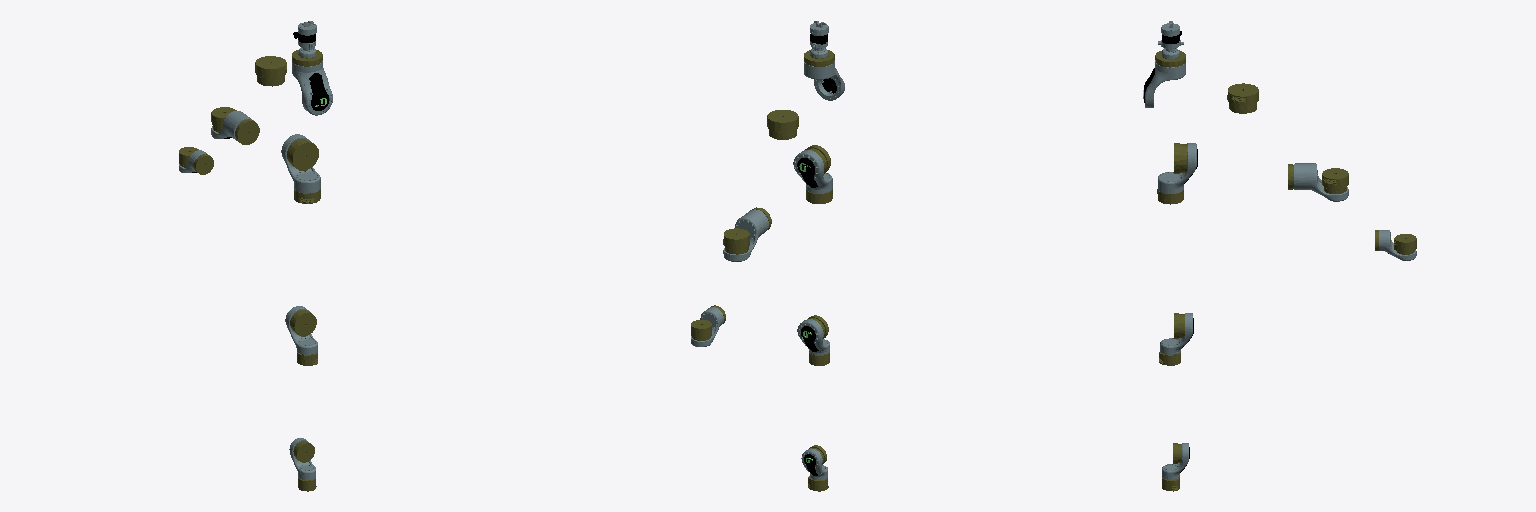
--- What the picture shows (computed from the rendered views, not written in the file) ---
3 views of the same robot in one strip: view 1: azimuth 30°, elevation 25°; view 2: azimuth 150°, elevation 25°; view 3: azimuth 270°, elevation 25° (orthographic).
Model hermesArm with 36 links and 35 joints (7 revolute, 28 fixed), rooted at base1, posed all joints at 0.
Visible links, largest first — view 1: link1_2, link2_2, link1_5, link2_1, link4_2, link4_1; view 2: link3_2, link1_5, link1_2, link2_2, link3_5; view 3: link3_2, link2_2, link1_5, link1_2, link3_5, link4_2.
Boxes of the visible links, x1=… form: link1_2: x1=292, y1=61, x2=332, y2=115; link2_2: x1=281, y1=134, x2=320, y2=193; link1_5: x1=255, y1=56, x2=286, y2=86; link2_1: x1=287, y1=139, x2=318, y2=170; link4_2: x1=285, y1=306, x2=317, y2=354; link4_1: x1=290, y1=310, x2=316, y2=336; link3_2: x1=723, y1=209, x2=768, y2=261; link1_5: x1=767, y1=110, x2=798, y2=139; link1_2: x1=804, y1=61, x2=844, y2=100; link2_2: x1=793, y1=150, x2=832, y2=193; link3_5: x1=723, y1=228, x2=749, y2=254; link3_2: x1=1294, y1=163, x2=1348, y2=201; link2_2: x1=1158, y1=143, x2=1196, y2=193; link1_5: x1=1227, y1=83, x2=1258, y2=113; link1_2: x1=1145, y1=60, x2=1185, y2=107; link3_5: x1=1322, y1=168, x2=1348, y2=193; link4_2: x1=1160, y1=313, x2=1192, y2=354.
Bounding box of the posed robot: 0.1329 × 1.15 × 2.17 m (x, y, z).
34 mesh visuals loaded from 36 distinct referenced files (34 binary STL); not drawn: 2 (reference not matched to a file when rendering).

The robot description file, URDF, robot "hermesArm":
<?xml version="1.0"?>
<robot name="hermesArm">

 <!-- **************************** LINKS ***************************** -->
  <link name="base1"> 
    <inertial>
      <origin xyz="0 0 0" /> 
      <mass value="1.0" />
      <inertia  ixx="1.0" ixy="0.0"  ixz="0.0"  iyy="1.0"  iyz="0.0"  izz="1.0" />
    </inertial>
    <visual>
      <origin xyz="0 0 0"/>
      <geometry>
        <mesh filename="package://hermes_arm_kdl/stl/BaseSchunk1.stl" />
      </geometry>
      <material name="link">
        <color rgba="0.4706 0.5451 0.5647 1"/>
      </material>
    </visual>
    <collision>
      <origin rpy="0 0 0" xyz="0 0 0"/>
      <geometry>
        <mesh filename="package://hermes_arm_kdl/stl/BaseSchunk1.stl" />
      </geometry>
    </collision>	
  </link>

  <link name="base2"> 
    <inertial>
      <origin xyz="0 0 0" /> 
      <mass value="1.0" />
      <inertia  ixx="1.0" ixy="0.0"  ixz="0.0"  iyy="1.0"  iyz="0.0"  izz="1.0" />
    </inertial>
    <visual>
      <origin xyz="0 0 0"/>
      <geometry>
        <mesh filename="package://hermes_arm_kdl/stl/BaseSchunk2.stl" />
      </geometry>
      <material name="motor">
        <color rgba="0.3922 0.3922 0.2118 1"/>
      </material>
    </visual>
    <collision>
      <origin rpy="0 0 0" xyz="0 0 0"/>
      <geometry>
        <mesh filename="package://hermes_arm_kdl/stl/BaseSchunk2.stl" />
      </geometry>
    </collision>	
  </link>

  <link name="link1_1"> 
    <inertial>
      <origin xyz="0 0 0" /> 
      <mass value="1.0" />
      <inertia  ixx="1.0" ixy="0.0"  ixz="0.0"  iyy="1.0"  iyz="0.0"  izz="1.0" />
    </inertial>
    <visual>
      <origin xyz="0 0 0"/>
      <geometry>
        <mesh filename="package://hermes_arm_kdl/stl/SchunkLink1_1.stl" />
      </geometry>
      <material name="motor">
        <color rgba="0.3922 0.3922 0.2118 1"/>
      </material>
    </visual>
    <collision>
      <origin rpy="0 0 0" xyz="0 0 0"/>
      <geometry>
        <mesh filename="package://hermes_arm_kdl/stl/SchunkLink1_1.stl" />
      </geometry>
    </collision>	
  </link>

  <link name="link1_2"> 
    <inertial>
      <origin xyz="0 0 0" /> 
      <mass value="1.0" />
      <inertia  ixx="1.0" ixy="0.0"  ixz="0.0"  iyy="1.0"  iyz="0.0"  izz="1.0" />
    </inertial>
    <visual>
      <origin xyz="0 0 0"/>
      <geometry>
        <mesh filename="package://hermes_arm_kdl/stl/SchunkLink1_2.stl" />
      </geometry>
      <material name="link">
        <color rgba="0.4706 0.5451 0.5647 1"/>
      </material>
    </visual>
    <collision>
      <origin rpy="0 0 0" xyz="0 0 0"/>
      <geometry>
        <mesh filename="package://hermes_arm_kdl/stl/SchunkLink1_2.stl" />
      </geometry>
    </collision>	
  </link>

  <link name="link1_3"> 
    <inertial>
      <origin xyz="0 0 0" /> 
      <mass value="1.0" />
      <inertia  ixx="1.0" ixy="0.0"  ixz="0.0"  iyy="1.0"  iyz="0.0"  izz="1.0" />
    </inertial>
    <visual>
      <origin xyz="0 0 0"/>
      <geometry>
        <mesh filename="package://hermes_arm_kdl/stl/SchunkLink1_3.stl" />
      </geometry>
      <material name="tapa">
        <color rgba="0.0100 0.0100 0.0100 1"/>
      </material>
    </visual>
    <collision>
      <origin rpy="0 0 0" xyz="0 0 0"/>
      <geometry>
        <mesh filename="package://hermes_arm_kdl/stl/SchunkLink1_3.stl" />
      </geometry>
    </collision>	
  </link>

  <link name="link1_4"> 
    <inertial>
      <origin xyz="0 0 0" /> 
      <mass value="1.0" />
      <inertia  ixx="1.0" ixy="0.0"  ixz="0.0"  iyy="1.0"  iyz="0.0"  izz="1.0" />
    </inertial>
    <visual>
      <origin xyz="0 0 0"/>
      <geometry>
        <mesh filename="package://hermes_arm_kdl/stl/SchunkLink1_4.stl" />
      </geometry>
      <material name="nbio">
        <color rgba="0.5100 0.9100 0.5100 1"/>
      </material>
    </visual>
    <collision>
      <origin rpy="0 0 0" xyz="0 0 0"/>
      <geometry>
        <mesh filename="package://hermes_arm_kdl/stl/SchunkLink1_4.stl" />
      </geometry>
    </collision>	
  </link>


  <link name="link1_5"> 
    <inertial>
      <origin xyz="0 0 0" /> 
      <mass value="1.0" />
      <inertia  ixx="1.0" ixy="0.0"  ixz="0.0"  iyy="1.0"  iyz="0.0"  izz="1.0" />
    </inertial>
    <visual>
      <origin xyz="0 0 0"/>
      <geometry>
        <mesh filename="package://hermes_arm_kdl/stl/SchunkLink1_5.stl" />
      </geometry>
      <material name="motor">
        <color rgba="0.3922 0.3922 0.2118 1"/>
      </material>
    </visual>
    <collision>
      <origin rpy="0 0 0" xyz="0 0 0"/>
      <geometry>
        <mesh filename="package://hermes_arm_kdl/stl/SchunkLink1_5.stl" />
      </geometry>
    </collision>	
  </link>


  <link name="link2_1"> 
    <inertial>
      <origin xyz="0 0 0" /> 
      <mass value="1.0" />
      <inertia  ixx="1.0" ixy="0.0"  ixz="0.0"  iyy="1.0"  iyz="0.0"  izz="1.0" />
    </inertial>
    <visual>
      <origin xyz="0 0 0"/>
      <geometry>
        <mesh filename="package://hermes_arm_kdl/stl/SchunkLink2_1.stl" />
      </geometry>
      <material name="motor">
        <color rgba="0.3922 0.3922 0.2118 1"/>
      </material>
    </visual>
    <collision>
      <origin rpy="0 0 0" xyz="0 0 0"/>
      <geometry>
        <mesh filename="package://hermes_arm_kdl/stl/SchunkLink2_1.stl" />
      </geometry>
    </collision>	
  </link>

  <link name="link2_2"> 
    <inertial>
      <origin xyz="0 0 0" /> 
      <mass value="1.0" />
      <inertia  ixx="1.0" ixy="0.0"  ixz="0.0"  iyy="1.0"  iyz="0.0"  izz="1.0" />
    </inertial>
    <visual>
      <origin xyz="0 0 0"/>
      <geometry>
        <mesh filename="package://hermes_arm_kdl/stl/SchunkLink2_2.stl" />
      </geometry>
      <material name="link">
        <color rgba="0.4706 0.5451 0.5647 1"/>
      </material>
    </visual>
    <collision>
      <origin rpy="0 0 0" xyz="0 0 0"/>
      <geometry>
        <mesh filename="package://hermes_arm_kdl/stl/SchunkLink2_2.stl" />
      </geometry>
    </collision>	
  </link>

  <link name="link2_3"> 
    <inertial>
      <origin xyz="0 0 0" /> 
      <mass value="1.0" />
      <inertia  ixx="1.0" ixy="0.0"  ixz="0.0"  iyy="1.0"  iyz="0.0"  izz="1.0" />
    </inertial>
    <visual>
      <origin xyz="0 0 0"/>
      <geometry>
        <mesh filename="package://hermes_arm_kdl/stl/SchunkLink2_3.stl" />
      </geometry>
      <material name="tapa">
        <color rgba="0.0100 0.0100 0.0100 1"/>
      </material>
    </visual>
    <collision>
      <origin rpy="0 0 0" xyz="0 0 0"/>
      <geometry>
        <mesh filename="package://hermes_arm_kdl/stl/SchunkLink2_3.stl" />
      </geometry>
    </collision>	
  </link>

  <link name="link2_4"> 
    <inertial>
      <origin xyz="0 0 0" /> 
      <mass value="1.0" />
      <inertia  ixx="1.0" ixy="0.0"  ixz="0.0"  iyy="1.0"  iyz="0.0"  izz="1.0" />
    </inertial>
    <visual>
      <origin xyz="0 0 0"/>
      <geometry>
        <mesh filename="package://hermes_arm_kdl/stl/SchunkLink2_4.stl" />
      </geometry>
      <material name="nbio">
        <color rgba="0.5100 0.9100 0.5100 1"/>
      </material>
    </visual>
    <collision>
      <origin rpy="0 0 0" xyz="0 0 0"/>
      <geometry>
        <mesh filename="package://hermes_arm_kdl/stl/SchunkLink2_4.stl" />
      </geometry>
    </collision>	
  </link>

  <link name="link2_5"> 
    <inertial>
      <origin xyz="0 0 0" /> 
      <mass value="1.0" />
      <inertia  ixx="1.0" ixy="0.0"  ixz="0.0"  iyy="1.0"  iyz="0.0"  izz="1.0" />
    </inertial>
    <visual>
      <origin xyz="0 0 0"/>
      <geometry>
        <mesh filename="package://hermes_arm_kdl/stl/SchunkLink2_5.stl" />
      </geometry>
      <material name="motor">
        <color rgba="0.3922 0.3922 0.2118 1"/>
      </material>
    </visual>
    <collision>
      <origin rpy="0 0 0" xyz="0 0 0"/>
      <geometry>
        <mesh filename="package://hermes_arm_kdl/stl/SchunkLink2_5.stl" />
      </geometry>
    </collision>	
  </link>

  <link name="link3_1"> 
    <inertial>
      <origin xyz="0 0 0" /> 
      <mass value="1.0" />
      <inertia  ixx="1.0" ixy="0.0"  ixz="0.0"  iyy="1.0"  iyz="0.0"  izz="1.0" />
    </inertial>
    <visual>
      <origin xyz="0 0 0"/>
      <geometry>
        <mesh filename="package://hermes_arm_kdl/stl/SchunkLink3_1.stl" />
      </geometry>
      <material name="motor">
        <color rgba="0.3922 0.3922 0.2118 1"/>
      </material>
    </visual>
    <collision>
      <origin rpy="0 0 0" xyz="0 0 0"/>
      <geometry>
        <mesh filename="package://hermes_arm_kdl/stl/SchunkLink3_1.stl" />
      </geometry>
    </collision>	
  </link>

  <link name="link3_2"> 
    <inertial>
      <origin xyz="0 0 0" /> 
      <mass value="1.0" />
      <inertia  ixx="1.0" ixy="0.0"  ixz="0.0"  iyy="1.0"  iyz="0.0"  izz="1.0" />
    </inertial>
    <visual>
      <origin xyz="0 0 0"/>
      <geometry>
        <mesh filename="package://hermes_arm_kdl/stl/SchunkLink3_2.stl" />
      </geometry>
      <material name="link">
        <color rgba="0.4706 0.5451 0.5647 1"/>
      </material>
    </visual>
    <collision>
      <origin rpy="0 0 0" xyz="0 0 0"/>
      <geometry>
        <mesh filename="package://hermes_arm_kdl/stl/SchunkLink3_2.stl" />
      </geometry>
    </collision>	
  </link>

  <link name="link3_3"> 
    <inertial>
      <origin xyz="0 0 0" /> 
      <mass value="1.0" />
      <inertia  ixx="1.0" ixy="0.0"  ixz="0.0"  iyy="1.0"  iyz="0.0"  izz="1.0" />
    </inertial>
    <visual>
      <origin xyz="0 0 0"/>
      <geometry>
        <mesh filename="package://hermes_arm_kdl/stl/SchunkLink3_3.stl" />
      </geometry>
      <material name="tapa">
        <color rgba="0.0100 0.0100 0.0100 1"/>
      </material>
    </visual>
    <collision>
      <origin rpy="0 0 0" xyz="0 0 0"/>
      <geometry>
        <mesh filename="package://hermes_arm_kdl/stl/SchunkLink3_3.stl" />
      </geometry>
    </collision>	
  </link>

  <link name="link3_4"> 
    <inertial>
      <origin xyz="0 0 0" /> 
      <mass value="1.0" />
      <inertia  ixx="1.0" ixy="0.0"  ixz="0.0"  iyy="1.0"  iyz="0.0"  izz="1.0" />
    </inertial>
    <visual>
      <origin xyz="0 0 0"/>
      <geometry>
        <mesh filename="package://hermes_arm_kdl/stl/SchunkLink3_4.stl" />
      </geometry>
      <material name="nbio">
        <color rgba="0.5100 0.9100 0.5100 1"/>
      </material>
    </visual>
    <collision>
      <origin rpy="0 0 0" xyz="0 0 0"/>
      <geometry>
        <mesh filename="package://hermes_arm_kdl/stl/SchunkLink3_4.stl" />
      </geometry>
    </collision>	
  </link>

  <link name="link3_5"> 
    <inertial>
      <origin xyz="0 0 0" /> 
      <mass value="1.0" />
      <inertia  ixx="1.0" ixy="0.0"  ixz="0.0"  iyy="1.0"  iyz="0.0"  izz="1.0" />
    </inertial>
    <visual>
      <origin xyz="0 0 0"/>
      <geometry>
        <mesh filename="package://hermes_arm_kdl/stl/SchunkLink3_5.stl" />
      </geometry>
      <material name="motor">
        <color rgba="0.3922 0.3922 0.2118 1"/>
      </material>
    </visual>
    <collision>
      <origin rpy="0 0 0" xyz="0 0 0"/>
      <geometry>
        <mesh filename="package://hermes_arm_kdl/stl/SchunkLink3_5.stl" />
      </geometry>
    </collision>	
  </link>

  <link name="link4_1"> 
    <inertial>
      <origin xyz="0 0 0" /> 
      <mass value="1.0" />
      <inertia  ixx="1.0" ixy="0.0"  ixz="0.0"  iyy="1.0"  iyz="0.0"  izz="1.0" />
    </inertial>
    <visual>
      <origin xyz="0 0 0"/>
      <geometry>
        <mesh filename="package://hermes_arm_kdl/stl/SchunkLink4_1.stl" />
      </geometry>
      <material name="motor">
        <color rgba="0.3922 0.3922 0.2118 1"/>
      </material>
    </visual>
    <collision>
      <origin rpy="0 0 0" xyz="0 0 0"/>
      <geometry>
        <mesh filename="package://hermes_arm_kdl/stl/SchunkLink4_1.stl" />
      </geometry>
    </collision>	
  </link>

  <link name="link4_2"> 
    <inertial>
      <origin xyz="0 0 0" /> 
      <mass value="1.0" />
      <inertia  ixx="1.0" ixy="0.0"  ixz="0.0"  iyy="1.0"  iyz="0.0"  izz="1.0" />
    </inertial>
    <visual>
      <origin xyz="0 0 0"/>
      <geometry>
        <mesh filename="package://hermes_arm_kdl/stl/SchunkLink4_2.stl" />
      </geometry>
      <material name="link">
        <color rgba="0.4706 0.5451 0.5647 1"/>
      </material>
    </visual>
    <collision>
      <origin rpy="0 0 0" xyz="0 0 0"/>
      <geometry>
        <mesh filename="package://hermes_arm_kdl/stl/SchunkLink4_2.stl" />
      </geometry>
    </collision>	
  </link>

  <link name="link4_3"> 
    <inertial>
      <origin xyz="0 0 0" /> 
      <mass value="1.0" />
      <inertia  ixx="1.0" ixy="0.0"  ixz="0.0"  iyy="1.0"  iyz="0.0"  izz="1.0" />
    </inertial>
    <visual>
      <origin xyz="0 0 0"/>
      <geometry>
        <mesh filename="package://hermes_arm_kdl/stl/SchunkLink4_3.stl" />
      </geometry>
      <material name="tapa">
        <color rgba="0.0100 0.0100 0.0100 1"/>
      </material>
    </visual>
    <collision>
      <origin rpy="0 0 0" xyz="0 0 0"/>
      <geometry>
        <mesh filename="package://hermes_arm_kdl/stl/SchunkLink4_3.stl" />
      </geometry>
    </collision>	
  </link>

  <link name="link4_4"> 
    <inertial>
      <origin xyz="0 0 0" /> 
      <mass value="1.0" />
      <inertia  ixx="1.0" ixy="0.0"  ixz="0.0"  iyy="1.0"  iyz="0.0"  izz="1.0" />
    </inertial>
    <visual>
      <origin xyz="0 0 0"/>
      <geometry>
        <mesh filename="package://hermes_arm_kdl/stl/SchunkLink4_4.stl" />
      </geometry>
      <material name="nbio">
        <color rgba="0.5100 0.9100 0.5100 1"/>
      </material>
    </visual>
    <collision>
      <origin rpy="0 0 0" xyz="0 0 0"/>
      <geometry>
        <mesh filename="package://hermes_arm_kdl/stl/SchunkLink4_4.stl" />
      </geometry>
    </collision>	
  </link>

  <link name="link4_5"> 
    <inertial>
      <origin xyz="0 0 0" /> 
      <mass value="1.0" />
      <inertia  ixx="1.0" ixy="0.0"  ixz="0.0"  iyy="1.0"  iyz="0.0"  izz="1.0" />
    </inertial>
    <visual>
      <origin xyz="0 0 0"/>
      <geometry>
        <mesh filename="package://hermes_arm_kdl/stl/SchunkLink4_5.stl" />
      </geometry>
      <material name="motor">
        <color rgba="0.3922 0.3922 0.2118 1"/>
      </material>
    </visual>
    <collision>
      <origin rpy="0 0 0" xyz="0 0 0"/>
      <geometry>
        <mesh filename="package://hermes_arm_kdl/stl/SchunkLink4_5.stl" />
      </geometry>
    </collision>	
  </link>

  <link name="link5_1"> 
    <inertial>
      <origin xyz="0 0 0" /> 
      <mass value="1.0" />
      <inertia  ixx="1.0" ixy="0.0"  ixz="0.0"  iyy="1.0"  iyz="0.0"  izz="1.0" />
    </inertial>
    <visual>
      <origin xyz="0 0 0"/>
      <geometry>
        <mesh filename="package://hermes_arm_kdl/stl/SchunkLink5_1.stl" />
      </geometry>
      <material name="motor">
        <color rgba="0.3922 0.3922 0.2118 1"/>
      </material>
    </visual>
    <collision>
      <origin rpy="0 0 0" xyz="0 0 0"/>
      <geometry>
        <mesh filename="package://hermes_arm_kdl/stl/SchunkLink5_1.stl" />
      </geometry>
    </collision>	
  </link>

  <link name="link5_2"> 
    <inertial>
      <origin xyz="0 0 0" /> 
      <mass value="1.0" />
      <inertia  ixx="1.0" ixy="0.0"  ixz="0.0"  iyy="1.0"  iyz="0.0"  izz="1.0" />
    </inertial>
    <visual>
      <origin xyz="0 0 0"/>
      <geometry>
        <mesh filename="package://hermes_arm_kdl/stl/SchunkLink5_2.stl" />
      </geometry>
      <material name="link">
        <color rgba="0.4706 0.5451 0.5647 1"/>
      </material>
    </visual>
    <collision>
      <origin rpy="0 0 0" xyz="0 0 0"/>
      <geometry>
        <mesh filename="package://hermes_arm_kdl/stl/SchunkLink5_2.stl" />
      </geometry>
    </collision>	
  </link>

  <link name="link5_3"> 
    <inertial>
      <origin xyz="0 0 0" /> 
      <mass value="1.0" />
      <inertia  ixx="1.0" ixy="0.0"  ixz="0.0"  iyy="1.0"  iyz="0.0"  izz="1.0" />
    </inertial>
    <visual>
      <origin xyz="0 0 0"/>
      <geometry>
        <mesh filename="package://hermes_arm_kdl/stl/SchunkLink5_3.stl" />
      </geometry>
      <material name="tapa">
        <color rgba="0.0100 0.0100 0.0100 1"/>
      </material>
    </visual>
    <collision>
      <origin rpy="0 0 0" xyz="0 0 0"/>
      <geometry>
        <mesh filename="package://hermes_arm_kdl/stl/SchunkLink5_3.stl" />
      </geometry>
    </collision>	
  </link>

  <link name="link5_4"> 
    <inertial>
      <origin xyz="0 0 0" /> 
      <mass value="1.0" />
      <inertia  ixx="1.0" ixy="0.0"  ixz="0.0"  iyy="1.0"  iyz="0.0"  izz="1.0" />
    </inertial>
    <visual>
      <origin xyz="0 0 0"/>
      <geometry>
        <mesh filename="package://hermes_arm_kdl/stl/SchunkLink5_4.stl" />
      </geometry>
      <material name="nbio">
        <color rgba="0.5100 0.9100 0.5100 1"/>
      </material>
    </visual>
    <collision>
      <origin rpy="0 0 0" xyz="0 0 0"/>
      <geometry>
        <mesh filename="package://hermes_arm_kdl/stl/SchunkLink5_4.stl" />
      </geometry>
    </collision>	
  </link>

 <link name="link5_5"> 
    <inertial>
      <origin xyz="0 0 0" /> 
      <mass value="1.0" />
      <inertia  ixx="1.0" ixy="0.0"  ixz="0.0"  iyy="1.0"  iyz="0.0"  izz="1.0" />
    </inertial>
    <visual>
      <origin xyz="0 0 0"/>
      <geometry>
        <mesh filename="package://hermes_arm_kdl/stl/SchunkLink5_5.stl" />
      </geometry>
      <material name="motor">
        <color rgba="0.3922 0.3922 0.2118 1"/>
      </material>
    </visual>
    <collision>
      <origin rpy="0 0 0" xyz="0 0 0"/>
      <geometry>
        <mesh filename="package://hermes_arm_kdl/stl/SchunkLink5_5.stl" />
      </geometry>
    </collision>	
  </link>



  <link name="link6_1"> 
    <inertial>
      <origin xyz="0 0 0" /> 
      <mass value="1.0" />
      <inertia  ixx="1.0" ixy="0.0"  ixz="0.0"  iyy="1.0"  iyz="0.0"  izz="1.0" />
    </inertial>
    <visual>
      <origin xyz="0 0 0"/>
      <geometry>
        <mesh filename="package://hermes_arm_kdl/stl/SchunkLink6_1.stl" />
      </geometry>
      <material name="motor">
        <color rgba="0.3922 0.3922 0.2118 1"/>
      </material>
    </visual>
    <collision>
      <origin rpy="0 0 0" xyz="0 0 0"/>
      <geometry>
        <mesh filename="package://hermes_arm_kdl/stl/SchunkLink6_1.stl" />
      </geometry>
    </collision>	
  </link>

  <link name="link6_2"> 
    <inertial>
      <origin xyz="0 0 0" /> 
      <mass value="1.0" />
      <inertia  ixx="1.0" ixy="0.0"  ixz="0.0"  iyy="1.0"  iyz="0.0"  izz="1.0" />
    </inertial>
    <visual>
      <origin xyz="0 0 0"/>
      <geometry>
        <mesh filename="package://hermes_arm_kdl/stl/SchunkLink6_2.stl" />
      </geometry>
      <material name="link">
        <color rgba="0.4706 0.5451 0.5647 1"/>
      </material>
    </visual>
    <collision>
      <origin rpy="0 0 0" xyz="0 0 0"/>
      <geometry>
        <mesh filename="package://hermes_arm_kdl/stl/SchunkLink6_2.stl" />
      </geometry>
    </collision>	
  </link>


  <link name="link6_3"> 
    <inertial>
      <origin xyz="0 0 0" /> 
      <mass value="1.0" />
      <inertia  ixx="1.0" ixy="0.0"  ixz="0.0"  iyy="1.0"  iyz="0.0"  izz="1.0" />
    </inertial>
    <visual>
      <origin xyz="0 0 0"/>
      <geometry>
        <mesh filename="package://hermes_arm_kdl/stl/SchunkLink6_3.stl" />
      </geometry>
      <material name="tapa">
        <color rgba="0.0100 0.0100 0.0100 1"/>
      </material>
    </visual>
    <collision>
      <origin rpy="0 0 0" xyz="0 0 0"/>
      <geometry>
        <mesh filename="package://hermes_arm_kdl/stl/SchunkLink6_3.stl" />
      </geometry>
    </collision>	
  </link>


  <link name="link6_4"> 
    <inertial>
      <origin xyz="0 0 0" /> 
      <mass value="1.0" />
      <inertia  ixx="1.0" ixy="0.0"  ixz="0.0"  iyy="1.0"  iyz="0.0"  izz="1.0" />
    </inertial>
    <visual>
      <origin xyz="0 0 0"/>
      <geometry>
        <mesh filename="package://hermes_arm_kdl/stl/SchunkLink6_4.stl" />
      </geometry>
      <material name="nbio">
        <color rgba="0.5100 0.9100 0.5100 1"/>
      </material>
    </visual>
    <collision>
      <origin rpy="0 0 0" xyz="0 0 0"/>
      <geometry>
        <mesh filename="package://hermes_arm_kdl/stl/SchunkLink6_4.stl" />
      </geometry>
    </collision>	
  </link>

  <link name="link6_5"> 
    <inertial>
      <origin xyz="0 0 0" /> 
      <mass value="1.0" />
      <inertia  ixx="1.0" ixy="0.0"  ixz="0.0"  iyy="1.0"  iyz="0.0"  izz="1.0" />
    </inertial>
    <visual>
      <origin xyz="0 0 0"/>
      <geometry>
        <mesh filename="package://hermes_arm_kdl/stl/SchunkLink6_5.stl" />
      </geometry>
      <material name="motor">
        <color rgba="0.3922 0.3922 0.2118 1"/>
      </material>
    </visual>
    <collision>
      <origin rpy="0 0 0" xyz="0 0 0"/>
      <geometry>
        <mesh filename="package://hermes_arm_kdl/stl/SchunkLink6_5.stl" />
      </geometry>
    </collision>	
  </link>
  
 
  <link name="link7_1"> 
    <inertial>
      <origin xyz="0 0 0" /> 
      <mass value="1.0" />
      <inertia  ixx="1.0" ixy="0.0"  ixz="0.0"  iyy="1.0"  iyz="0.0"  izz="1.0" />
    </inertial>
    <visual>
      <origin xyz="0 0 0"/>
      <geometry>
        <mesh filename="package://hermes_arm_kdl/stl/SchunkLink7_1.stl" />
      </geometry>
      <material name="motor">
        <color rgba="0.3922 0.3922 0.2118 1"/>
      </material>
    </visual>
    <collision>
      <origin rpy="0 0 0" xyz="0 0 0"/>
      <geometry>
        <mesh filename="package://hermes_arm_kdl/stl/SchunkLink7_1.stl" />
      </geometry>
    </collision>	
  </link>


  <link name="link7_2"> 
    <inertial>
      <origin xyz="0 0 0" /> 
      <mass value="1.0" />
      <inertia  ixx="1.0" ixy="0.0"  ixz="0.0"  iyy="1.0"  iyz="0.0"  izz="1.0" />
    </inertial>
    <visual>
      <origin xyz="0 0 0"/>
      <geometry>
        <mesh filename="package://hermes_arm_kdl/stl/SchunkLink7_2.stl" />
      </geometry>
      <material name="link">
        <color rgba="0.4706 0.5451 0.5647 1"/>
      </material>
    </visual>
    <collision>
      <origin rpy="0 0 0" xyz="0 0 0"/>
      <geometry>
        <mesh filename="package://hermes_arm_kdl/stl/SchunkLink7_2.stl" />
      </geometry>
    </collision>	
  </link>

  <link name="link7_3"> 
    <inertial>
      <origin xyz="0 0 0" /> 
      <mass value="1.0" />
      <inertia  ixx="1.0" ixy="0.0"  ixz="0.0"  iyy="1.0"  iyz="0.0"  izz="1.0" />
    </inertial>
    <visual>
      <origin xyz="0 0 0"/>
      <geometry>
        <mesh filename="package://hermes_arm_kdl/stl/SchunkLink7_3.stl" />
      </geometry>
      <material name="tapa">
        <color rgba="0.01 0.01 0.01 1"/>
      </material>
    </visual>
    <collision>
      <origin rpy="0 0 0" xyz="0 0 0"/>
      <geometry>
        <mesh filename="package://hermes_arm_kdl/stl/SchunkLink7_3.stl" />
      </geometry>
    </collision>	
  </link>


  <link name="link7_4"> 
    <inertial>
      <origin xyz="0 0 0" /> 
      <mass value="1.0" />
      <inertia  ixx="1.0" ixy="0.0"  ixz="0.0"  iyy="1.0"  iyz="0.0"  izz="1.0" />
    </inertial>
    <visual>
      <origin xyz="0 0 0"/>
      <geometry>
        <mesh filename="package://hermes_arm_kdl/stl/SchunkLink7_4.stl" />
      </geometry>
      <material name="link">
        <color rgba="0.4706 0.5451 0.5647 1"/>
      </material>
    </visual>
    <collision>
      <origin rpy="0 0 0" xyz="0 0 0"/>
      <geometry>
        <mesh filename="package://hermes_arm_kdl/stl/SchunkLink7_4.stl" />
      </geometry>
    </collision>	
  </link>

 <!-- **************************** JOINTS ***************************** -->
  <joint name="base_fixed" type="fixed">
    <parent link="base1"/>
    <child link="base2"/>
  </joint>


  <joint name="joint1" type="revolute">
    <parent link="base2"/>
    <child link="link1_1"/>
    <origin xyz="0 0 -0.3060" rpy="1.5707963267949 0 0" />
    <limit effort="100" velocity="100" lower="-3.14" upper="3.14" />
    <axis xyz="0 1 0" />
  </joint>

  <joint name="joint1_1" type="fixed">
    <parent link="link1_1"/>
    <child link="link1_2"/>
  </joint>

  <joint name="joint1_2" type="fixed">
    <parent link="link1_2"/>
    <child link="link1_3"/>
  </joint>

  <joint name="joint1_3" type="fixed">
    <parent link="link1_3"/>
    <child link="link1_4"/>
  </joint>

  <joint name="joint1_4" type="fixed">
    <parent link="link1_4"/>
    <child link="link1_5"/>
  </joint>

  <joint name="joint2" type="revolute">
    <parent link="link1_5"/>
    <child link="link2_1"/>
    <origin xyz="0 0 0" rpy="-1.5707963267949 0 0" />
    <axis xyz="0 -1 0" />
    <limit effort="100" velocity="100" lower="-1.83" upper="1.83" />
  </joint>

  <joint name="joint2_1" type="fixed">
    <parent link="link2_1"/>
    <child link="link2_2"/>
  </joint>

  <joint name="joint2_2" type="fixed">
    <parent link="link2_2"/>
    <child link="link2_3"/>
  </joint>

  <joint name="joint2_3" type="fixed">
    <parent link="link2_3"/>
    <child link="link2_4"/>
  </joint>

  <joint name="joint2_4" type="fixed">
    <parent link="link2_4"/>
    <child link="link2_5"/>
  </joint>

  <joint name="joint3" type="revolute">
    <parent link="link2_5"/>
    <child link="link3_1"/>
    <origin xyz="0 0 -0.391" rpy="1.5707963267949 0 0" />
    <axis xyz="0 1 0" />
    <limit effort="100" velocity="100" lower="-3.14" upper="3.14" />
  </joint>

  <joint name="joint3_1" type="fixed">
    <parent link="link3_1"/>
    <child link="link3_2"/>
  </joint>

  <joint name="joint3_2" type="fixed">
    <parent link="link3_2"/>
    <child link="link3_3"/>
  </joint>

  <joint name="joint3_3" type="fixed">
    <parent link="link3_3"/>
    <child link="link3_4"/>
  </joint>

  <joint name="joint3_4" type="fixed">
    <parent link="link3_4"/>
    <child link="link3_5"/>
  </joint>

  <joint name="joint4" type="revolute">
    <parent link="link3_5"/>
    <child link="link4_1"/>
    <origin xyz="0 0 0" rpy="-1.5707963267949 0 0" />
    <axis xyz="0 -1 0" />
    <limit effort="100" velocity="100" lower="-1.83" upper="1.83" />
  </joint>

  <joint name="joint4_1" type="fixed">
    <parent link="link4_1"/>
    <child link="link4_2"/>
  </joint>

  <joint name="joint4_2" type="fixed">
    <parent link="link4_2"/>
    <child link="link4_3"/>
  </joint>

  <joint name="joint4_3" type="fixed">
    <parent link="link4_3"/>
    <child link="link4_4"/>
  </joint>

  <joint name="joint4_4" type="fixed">
    <parent link="link4_4"/>
    <child link="link4_5"/>
  </joint>

  <joint name="joint5" type="revolute">
    <parent link="link4_5"/>
    <child link="link5_1"/>
    <origin xyz="0 0 -0.2975" rpy="1.5707963267949 0 0" />
    <axis xyz="0 1 0" /> 
    <limit effort="100" velocity="100" lower="-3.14" upper="3.14" />
  </joint>

  <joint name="joint5_1" type="fixed">
    <parent link="link5_1"/>
    <child link="link5_2"/>
  </joint>

  <joint name="joint5_2" type="fixed">
    <parent link="link5_2"/>
    <child link="link5_3"/>
  </joint>

  <joint name="joint5_3" type="fixed">
    <parent link="link5_3"/>
    <child link="link5_4"/>
  </joint>

  <joint name="joint5_4" type="fixed">
    <parent link="link5_4"/>
    <child link="link5_5"/>
  </joint>

  <joint name="joint6" type="revolute">
    <parent link="link5_5"/>
    <child link="link6_1"/>
    <origin xyz="0 0 0" rpy="-1.5707963267949 0 0" />
    <axis xyz="0 -1 0" /> 
    <limit effort="100" velocity="100" lower="-1.83" upper="1.83" />
  </joint>

  <joint name="joint6_1" type="fixed">
    <parent link="link6_1"/>
    <child link="link6_2"/>
  </joint>

  <joint name="joint6_2" type="fixed">
    <parent link="link6_2"/>
    <child link="link6_3"/>
  </joint>

  <joint name="joint6_3" type="fixed">
    <parent link="link6_3"/>
    <child link="link6_4"/>
  </joint>

  <joint name="joint6_4" type="fixed">
    <parent link="link6_4"/>
    <child link="link6_5"/>
  </joint>


  <joint name="joint7" type="revolute">
    <parent link="link6_5"/>
    <child link="link7_1"/>
    <origin xyz="0 0 -0.3045" rpy="3.1416 0 0" />
    <axis xyz="0 0 -1" />
    <limit effort="100" velocity="100" lower="-3.14" upper="3.14" />
  </joint>

  <joint name="joint7_1" type="fixed">
    <parent link="link7_1"/>
    <child link="link7_2"/>
  </joint>

  <joint name="joint7_2" type="fixed">
    <parent link="link7_2"/>
    <child link="link7_3"/>
  </joint>

  <joint name="joint7_3" type="fixed">
    <parent link="link7_3"/>
    <child link="link7_4"/>
  </joint>
  

</robot>
